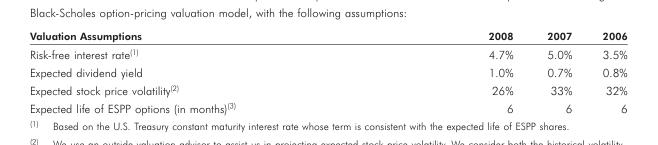table: (28, 28, 626, 114)
table column: (28, 28, 361, 114), (361, 28, 529, 114), (529, 28, 586, 114), (586, 28, 626, 114)
table column header: (28, 28, 626, 43)
table row: (28, 43, 626, 62), (28, 62, 626, 80), (28, 80, 626, 98), (28, 98, 626, 114), (28, 28, 626, 43)
